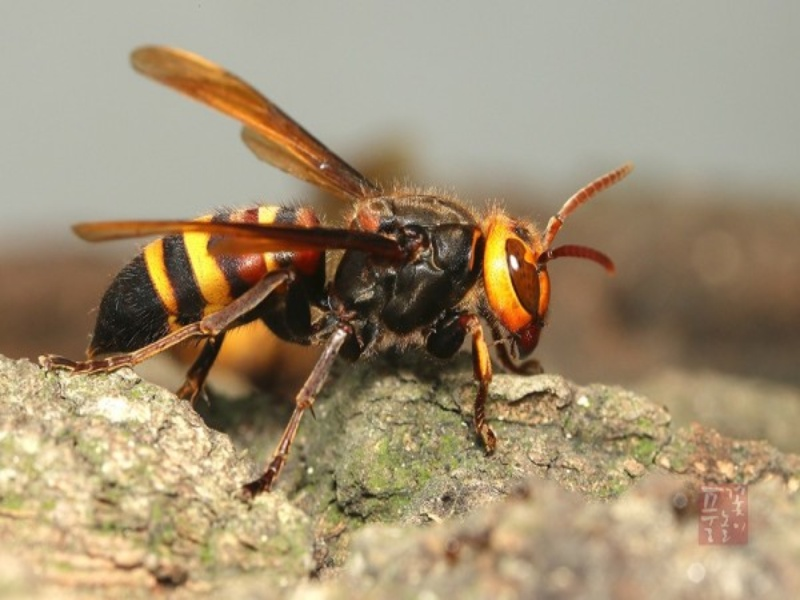asian_giant_hornet: (45, 162, 632, 388)
